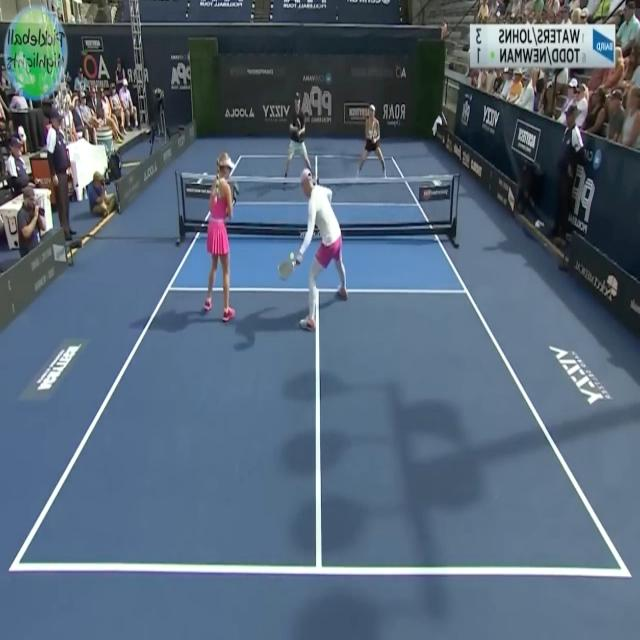Pickleball: (290, 249, 296, 263)
